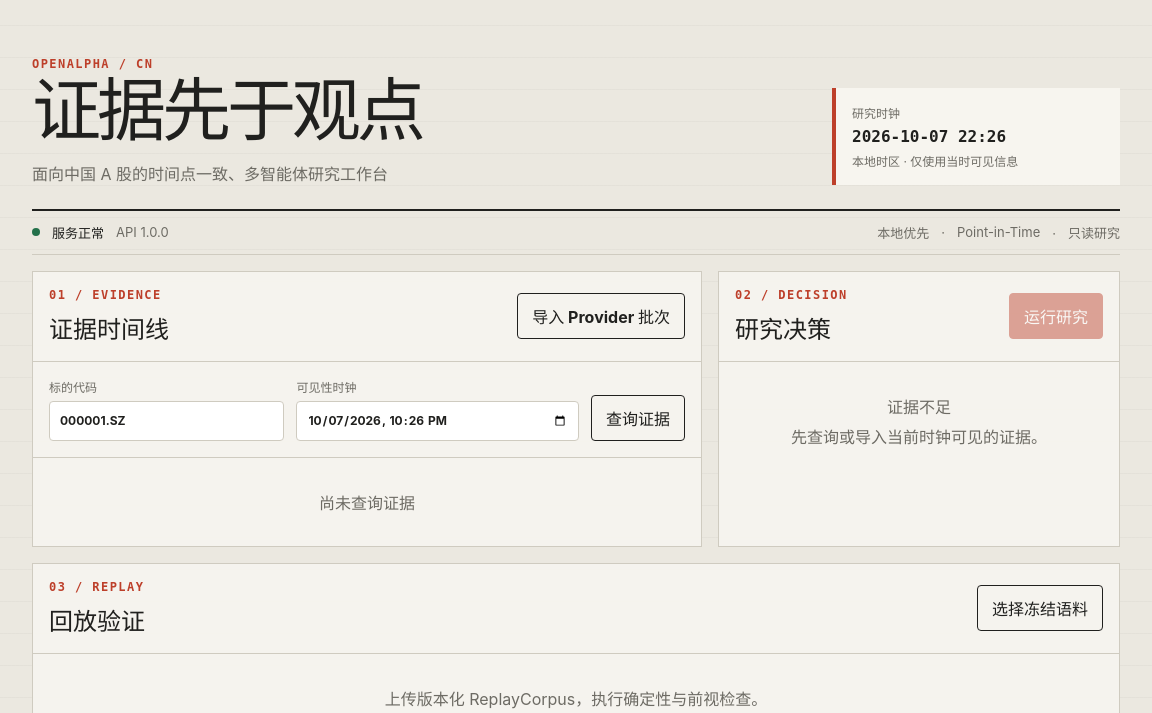
it: OpenAlpha workbench › queries evidence and renders the decision trail
Expected: the text "服务正常" is shown, left=52, top=223, right=104, bottom=242
What coordinates should you click on to do the following:
click the button "查询证据"
I would click on:
 (638, 418)
Its box is left=591, top=395, right=685, bottom=441.
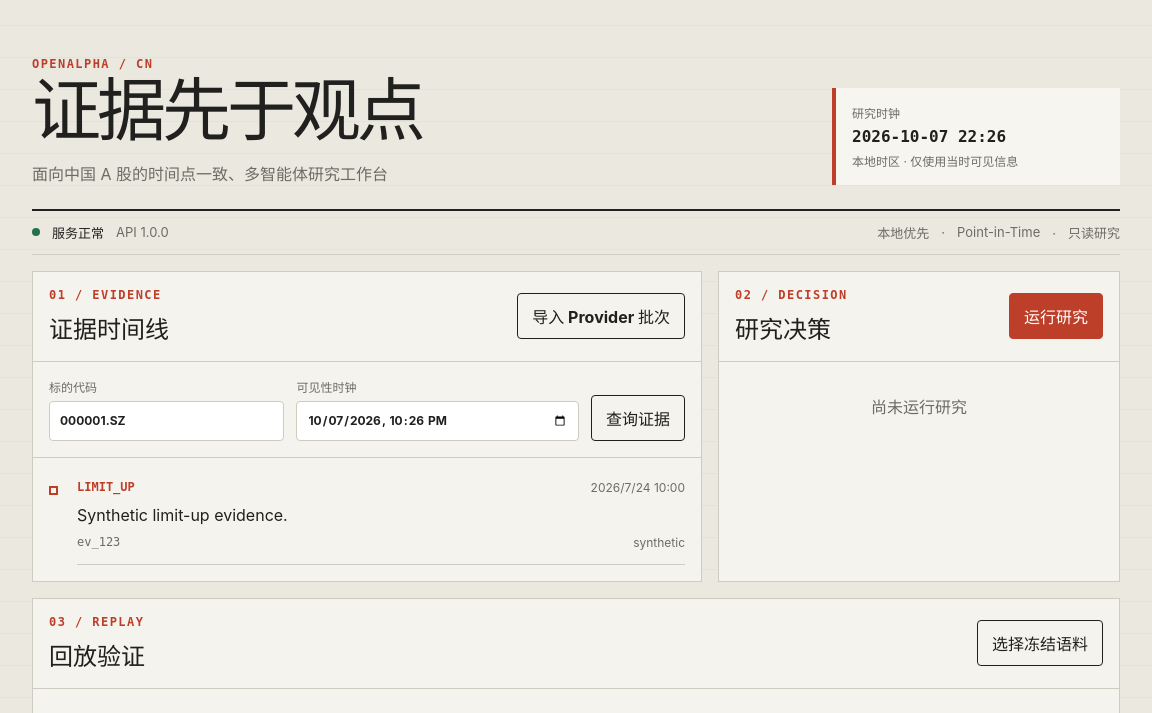
Now the text "Synthetic limit-up evidence." is shown, box left=77, top=505, right=288, bottom=525
What coordinates should you click on to do the following:
click the button "运行研究"
I would click on:
 (1056, 316)
Its box is left=1009, top=293, right=1103, bottom=339.
(page scrolled)
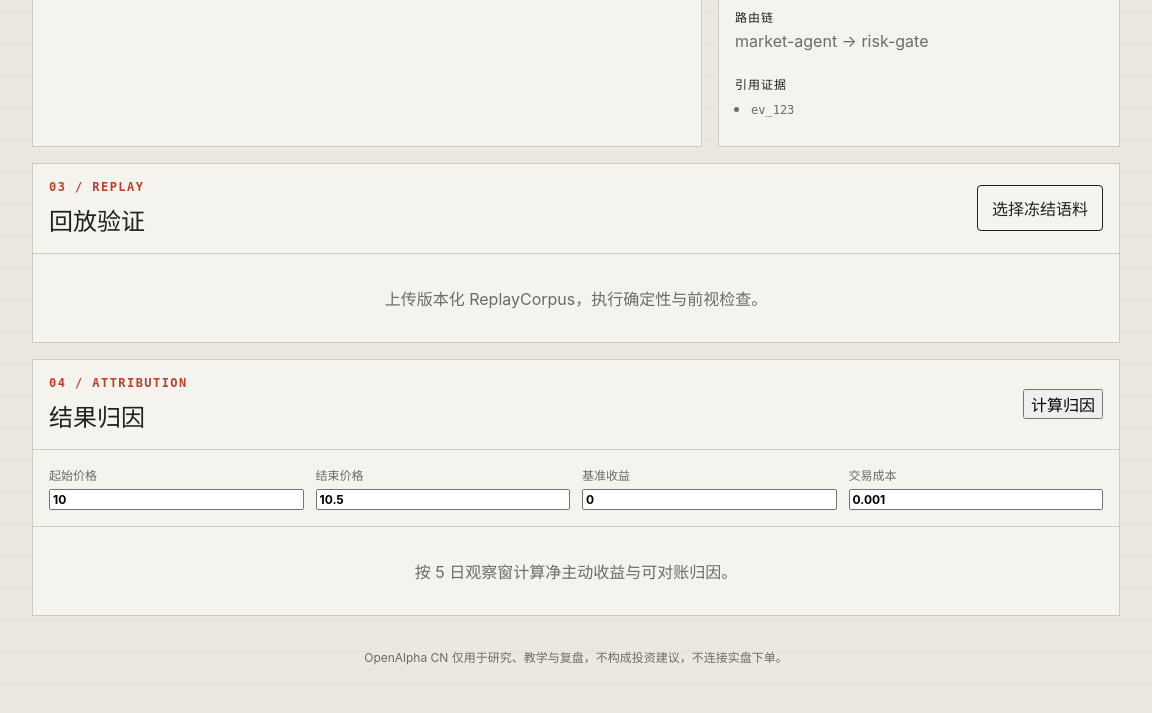
Now the text "market-agent → risk-gate" is shown, box left=735, top=31, right=928, bottom=51
Now the text "ev_123" is shown 2 times
What coordinates should you click on to do the following:
click the button "计算归因"
I would click on:
 (1063, 404)
Its box is left=1023, top=389, right=1103, bottom=419.
(page scrolled)
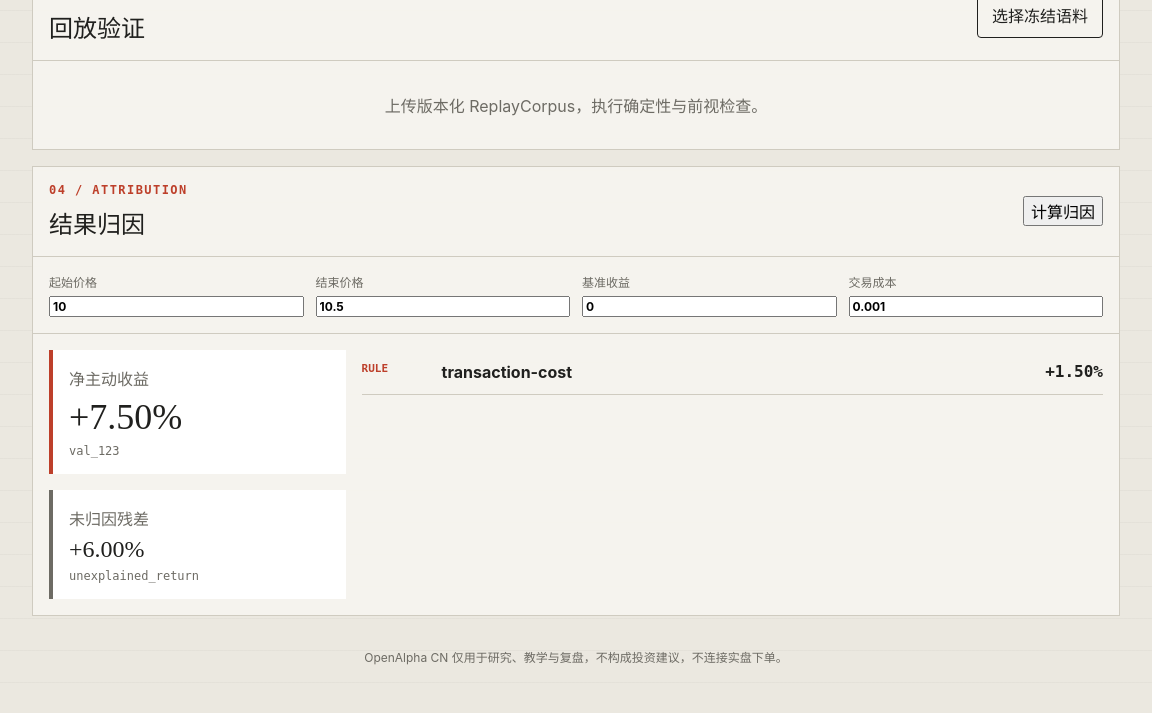
Now the text "+7.50%" is shown, box left=69, top=397, right=182, bottom=437
Now the text "transaction-cost" is shown, box left=442, top=362, right=572, bottom=382
Now the text "未归因残差" is shown, box left=69, top=509, right=149, bottom=529
